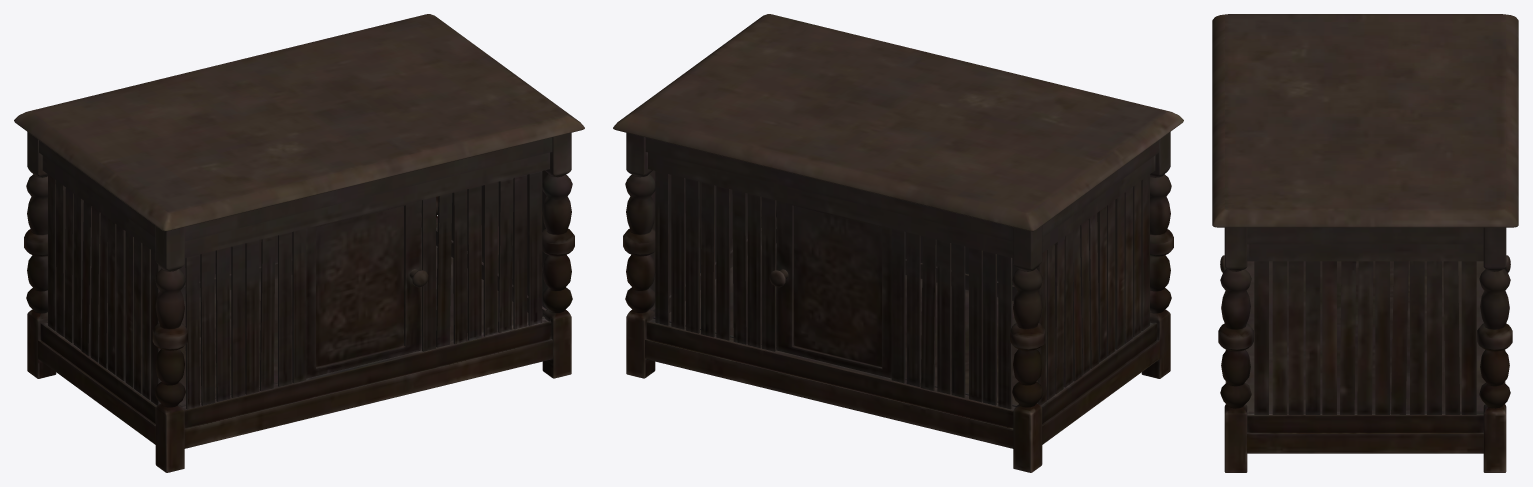
The model's file is gallinera-table.glb.
The picture shows the model from 3 angles, left to right: view 1: azimuth 30°, elevation 25°; view 2: azimuth 150°, elevation 25°; view 3: azimuth 270°, elevation 25°; orthographic projection.
Parts seen in each view (by area): view 1: gallinera_table; view 2: gallinera_table; view 3: gallinera_table.
Part boxes in pixels (box(x1,y1,x2,y2)): gallinera_table: box(14, 14, 584, 472); gallinera_table: box(613, 14, 1183, 472); gallinera_table: box(1212, 14, 1518, 472).
Size of the model in its own units: 0.8301 by 0.4878 by 0.5183.
Materials: 1 (1 with a texture image).
